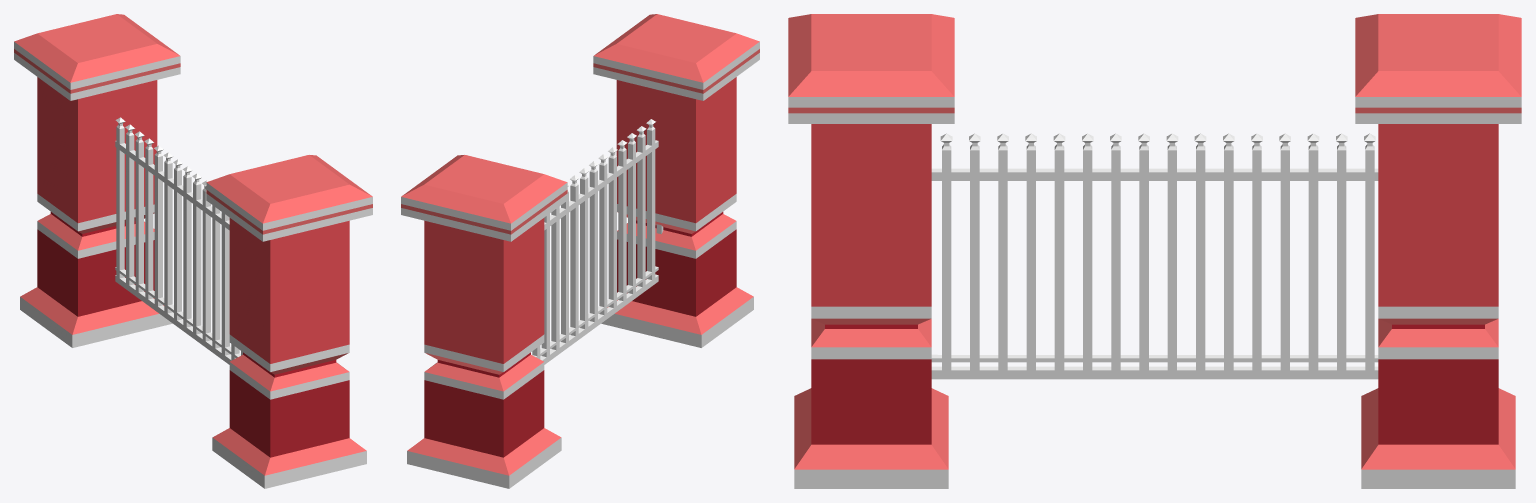
The model's file is Ultari1-3.fbx.
3 renders of one model, left to right at view 1: azimuth 30°, elevation 25°; view 2: azimuth 150°, elevation 25°; view 3: azimuth 270°, elevation 25°, orthographic. The views are drawn at different scales.
Visible parts, largest first — view 1: Box002; view 2: Box002; view 3: Box002.
Boxes of the visible parts, left/top/right/bottom form: Box002: left=14, top=14, right=372, bottom=488; Box002: left=401, top=14, right=759, bottom=488; Box002: left=788, top=14, right=1521, bottom=488.
Bounding box in the file's own units: 1.92 × 4.62 × 7.5.
